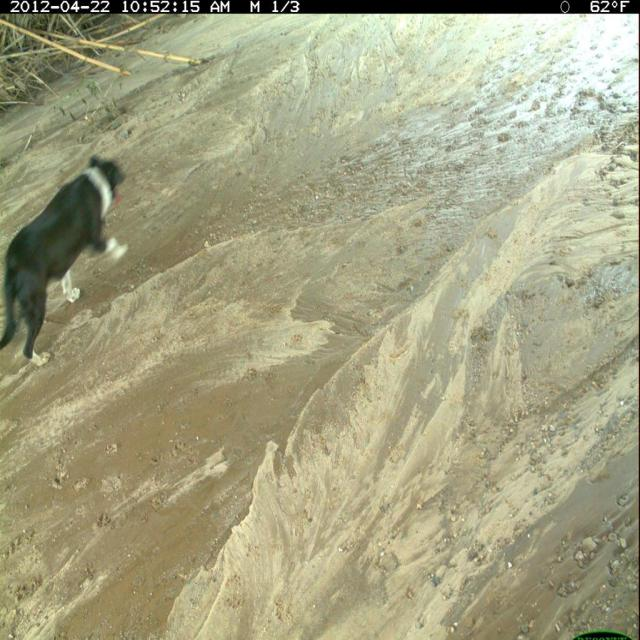dog: (1, 153, 131, 370)
